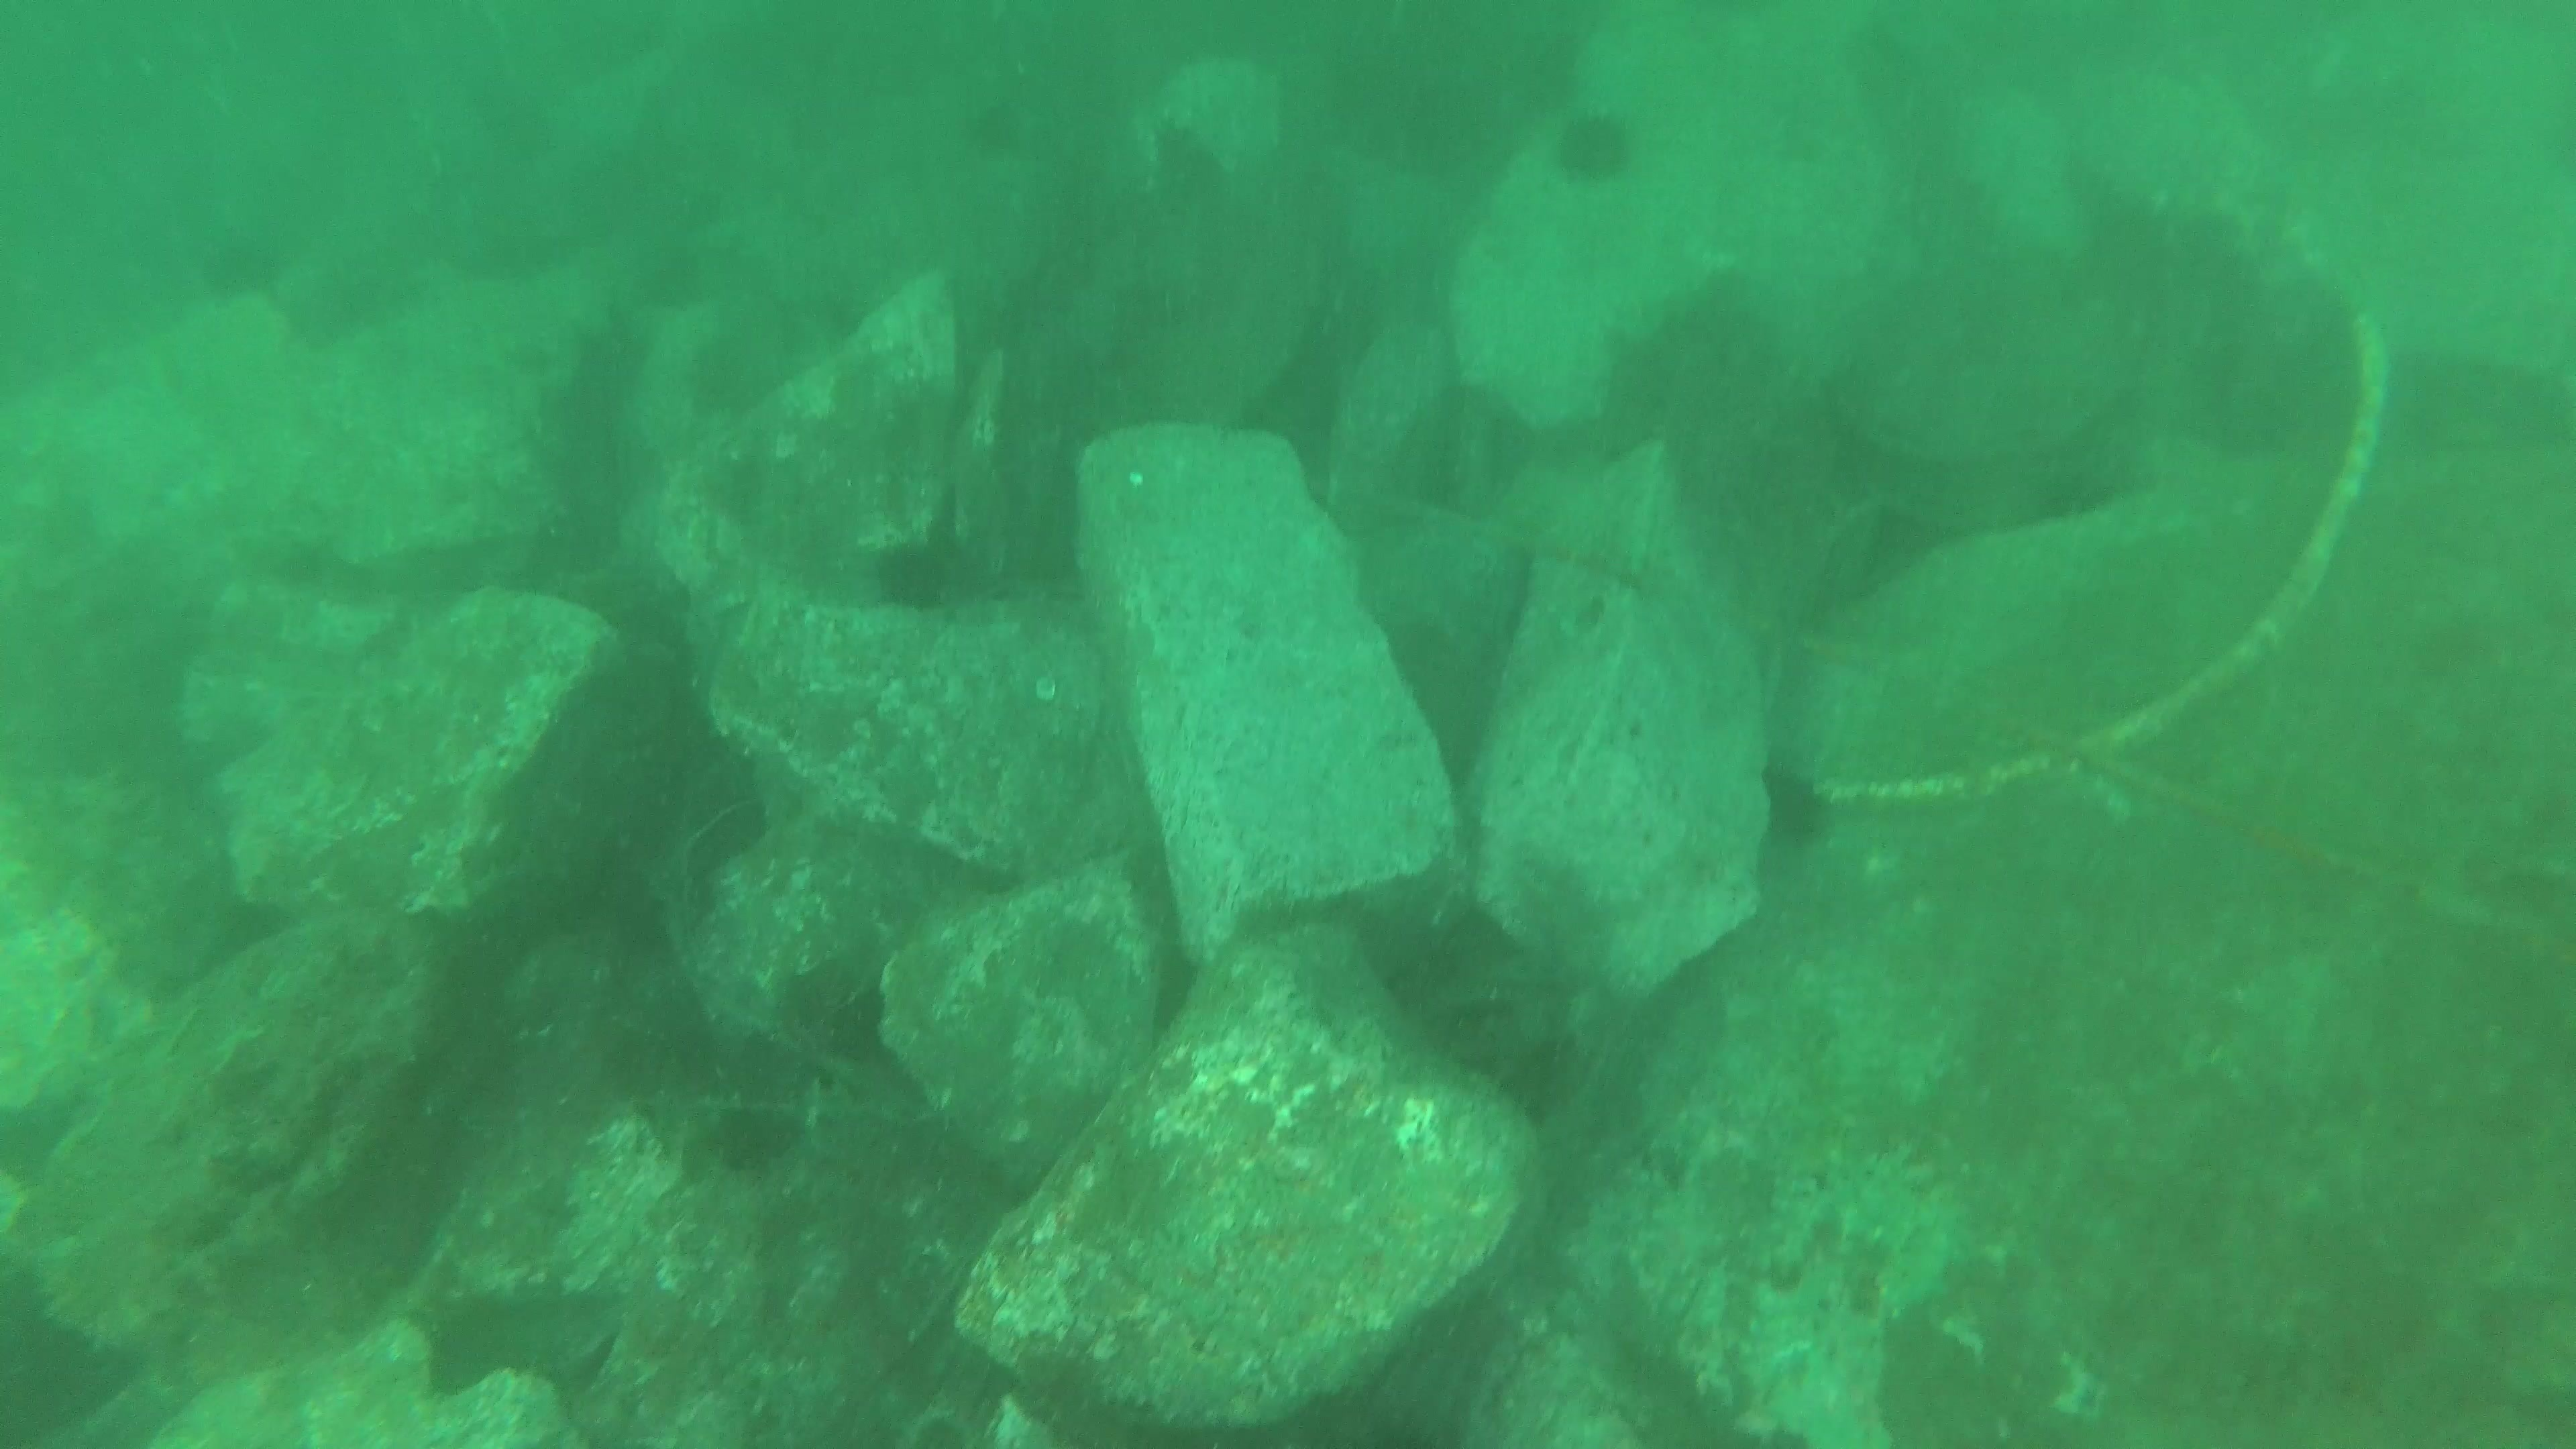echinus: (867, 529, 966, 619), (1752, 754, 1838, 855), (1546, 103, 1642, 189)
